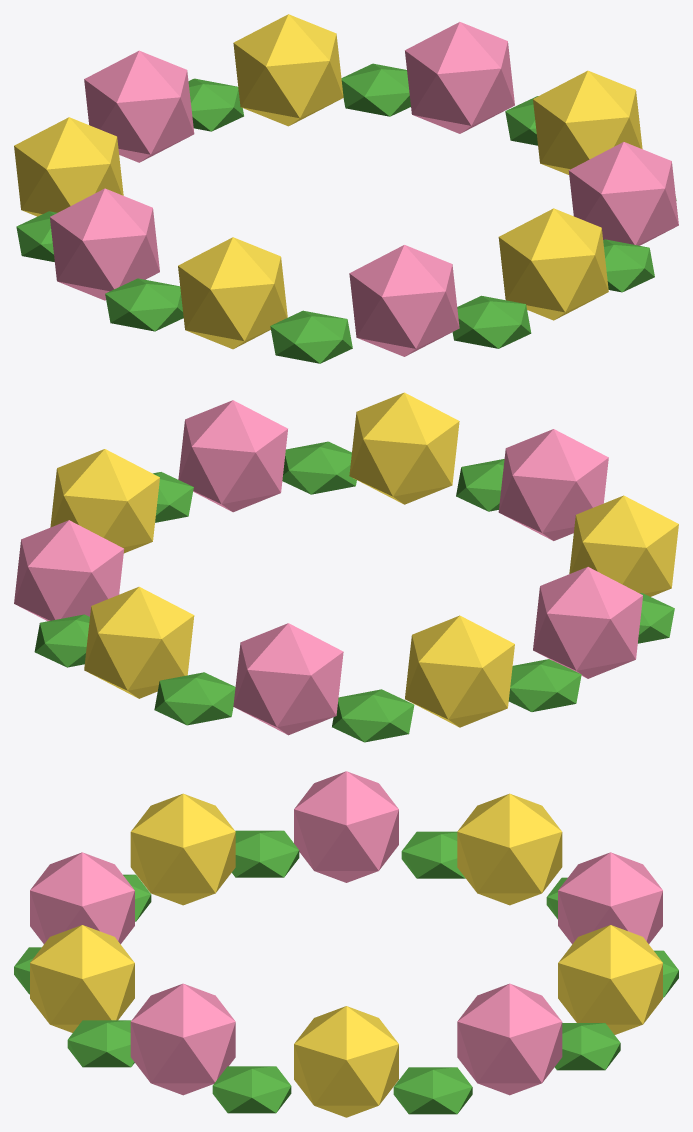
The model's file is hat_flower_crown.glb.
3 views of the same model, one above another, from view 1: azimuth 30°, elevation 25°; view 2: azimuth 150°, elevation 25°; view 3: azimuth 270°, elevation 25° (orthographic).
Parts seen in each view (by area): view 1: hat_flower_crown; view 2: hat_flower_crown; view 3: hat_flower_crown.
Boxes of the visible parts, x1=… form: hat_flower_crown: x1=14, y1=14, x2=678, y2=363; hat_flower_crown: x1=14, y1=392, x2=678, y2=742; hat_flower_crown: x1=14, y1=771, x2=678, y2=1117.
Bounding box in the file's own units: 0.8631 × 0.16 × 0.862.
